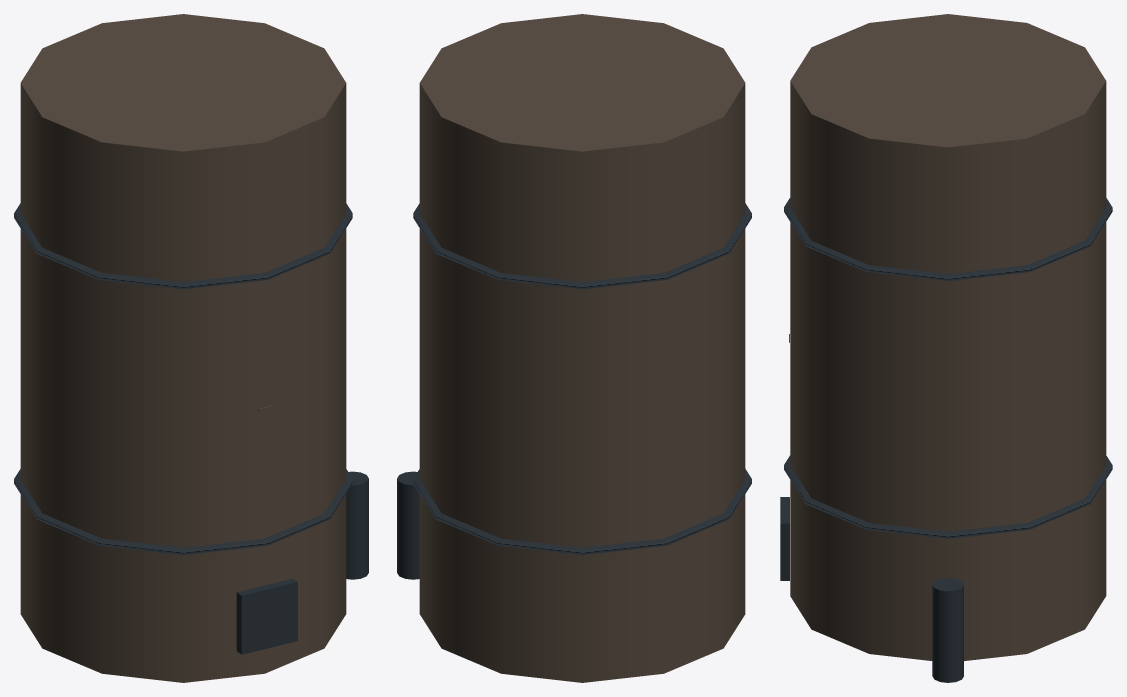
The model's file is boiler-2.glb.
3 views of the same model, side by side, from view 1: azimuth 30°, elevation 25°; view 2: azimuth 150°, elevation 25°; view 3: azimuth 270°, elevation 25° (orthographic). The views are drawn at different scales.
Visible parts, largest first — view 1: boiler/1/KR-230-2; view 2: boiler/1/KR-230-2; view 3: boiler/1/KR-230-2.
Boxes of the visible parts, bbox=[...] form: boiler/1/KR-230-2: bbox=[14, 14, 368, 682]; boiler/1/KR-230-2: bbox=[397, 14, 751, 682]; boiler/1/KR-230-2: bbox=[780, 14, 1112, 682].
Size of the model in its own units: 5.85 by 9 by 5.25.
